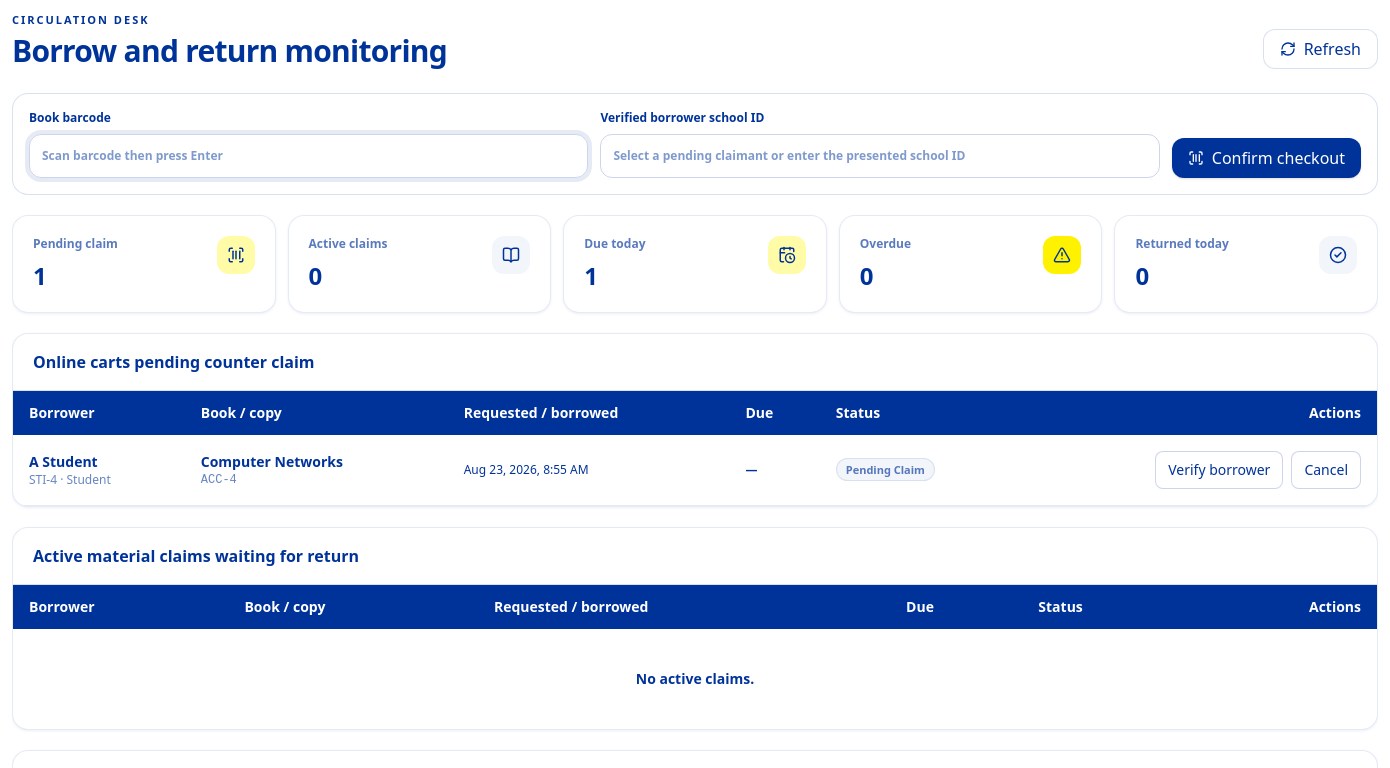
AdminCirculationMonitor › renders online cart requests in a dedicated pending-claim ledger
This screenshot has width=1390, height=768.
Check: the text "Computer Networks" is shown, box [201, 452, 343, 470]
Click the button "Verify borrower": (1219, 470) [1155, 450, 1284, 488]
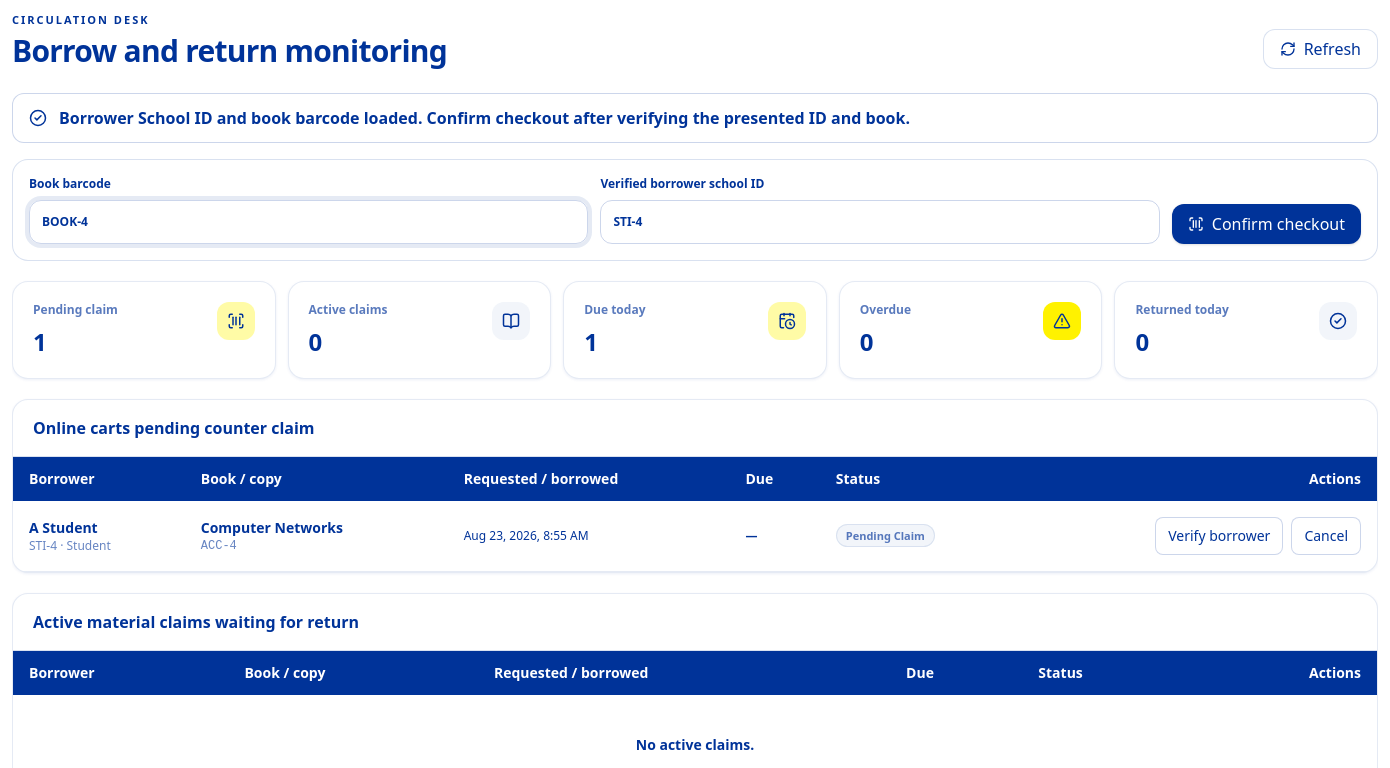
Check: the field with placeholder "Scan barcode then press Enter" holds "BOOK-4", box [29, 200, 588, 244]
Check: the field with placeholder "Select a pending claimant or enter the presented school ID" holds "STI-4", box [600, 200, 1160, 244]
Check: the text "Borrower School ID and book barcode loaded. Confirm checkout after verifying the presented ID and book." is shown, box [59, 106, 910, 128]
